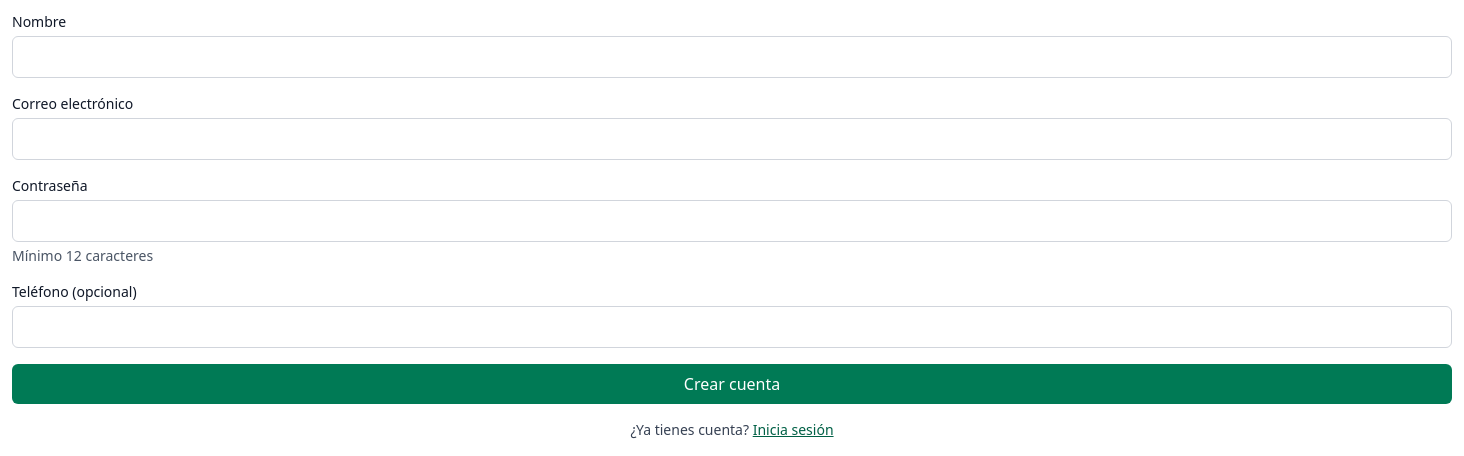
SignupForm › tras el registro sustituye el formulario por el aviso del correo enviado
Type "Alex Vecino" into the field labelled "Nombre" at (732, 57), box [12,36,1452,78]
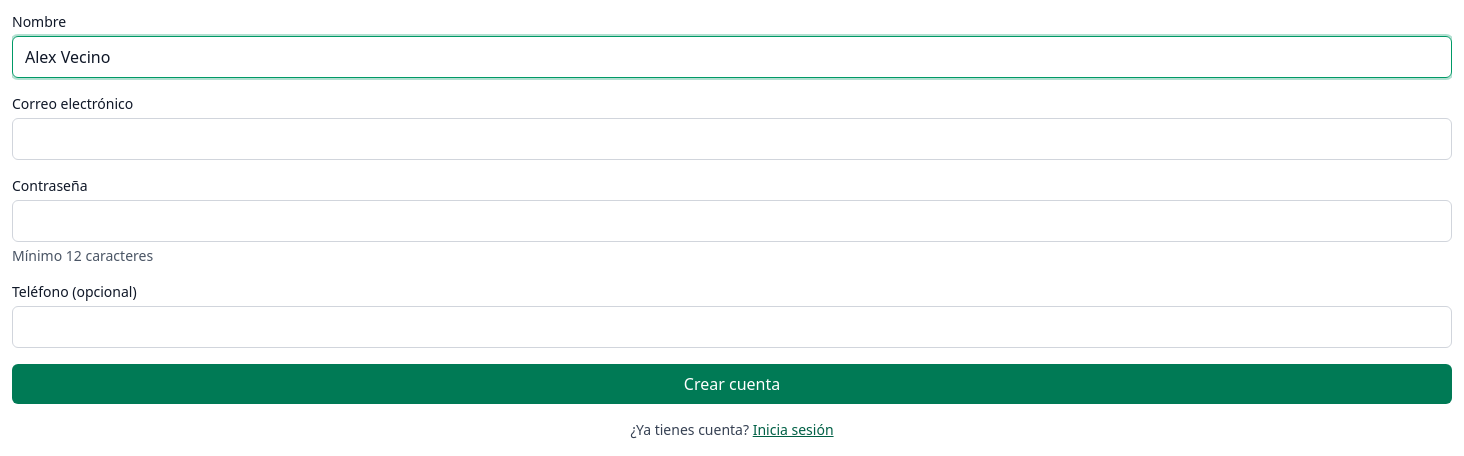
Type "vecino@example.com" into the field labelled "Correo electrónico" at (732, 139), box [12,118,1452,160]
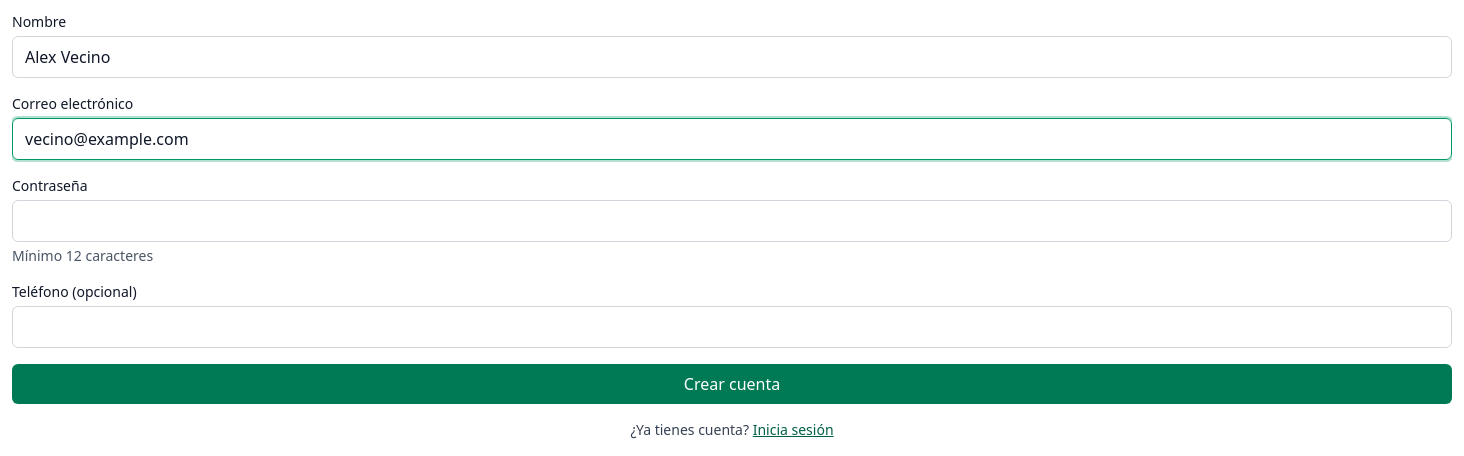
Type "una-clave-cualquiera" into the password field labelled "Contraseña" at (732, 221), box [12,200,1452,242]
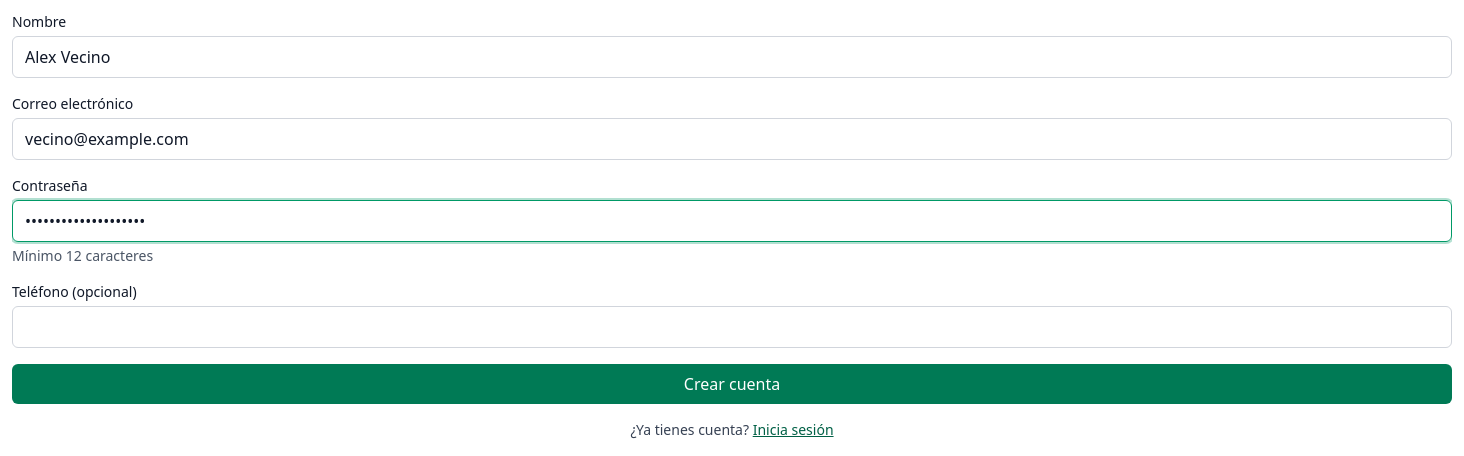
Click the button "Crear cuenta" at (732, 384), box [12,364,1452,404]
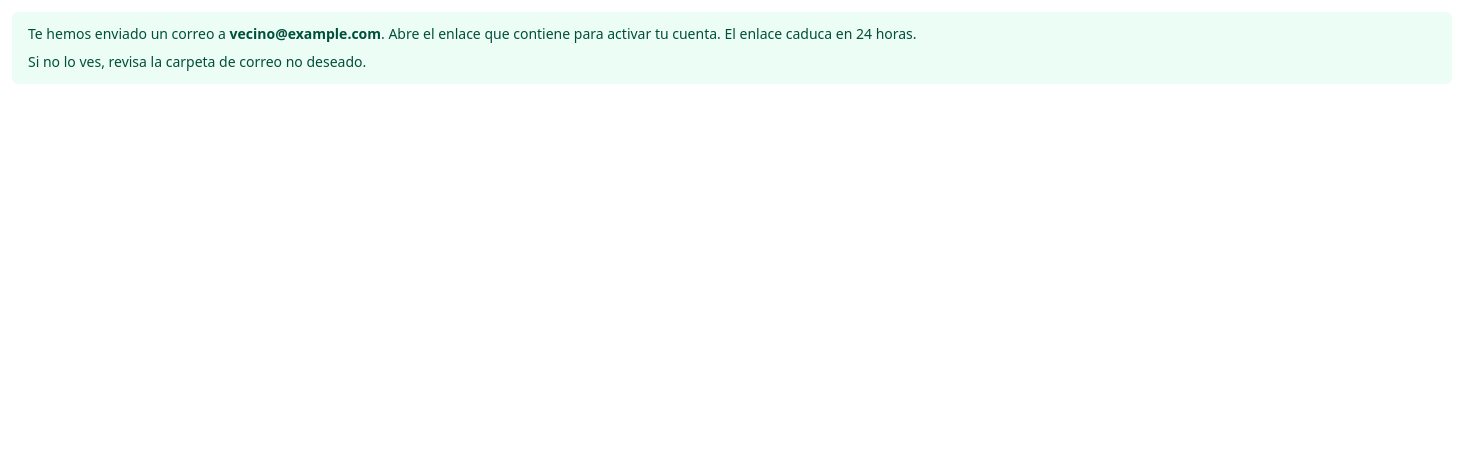
Expected: the message shows "Te hemos enviado un correo a vecino@example.com.", [12,12,1452,84]
Expected: the message shows "El enlace caduca en 24 horas.", [381,24,917,43]
Expected: the message shows "revisa la carpeta de correo no deseado", [28,52,366,71]
